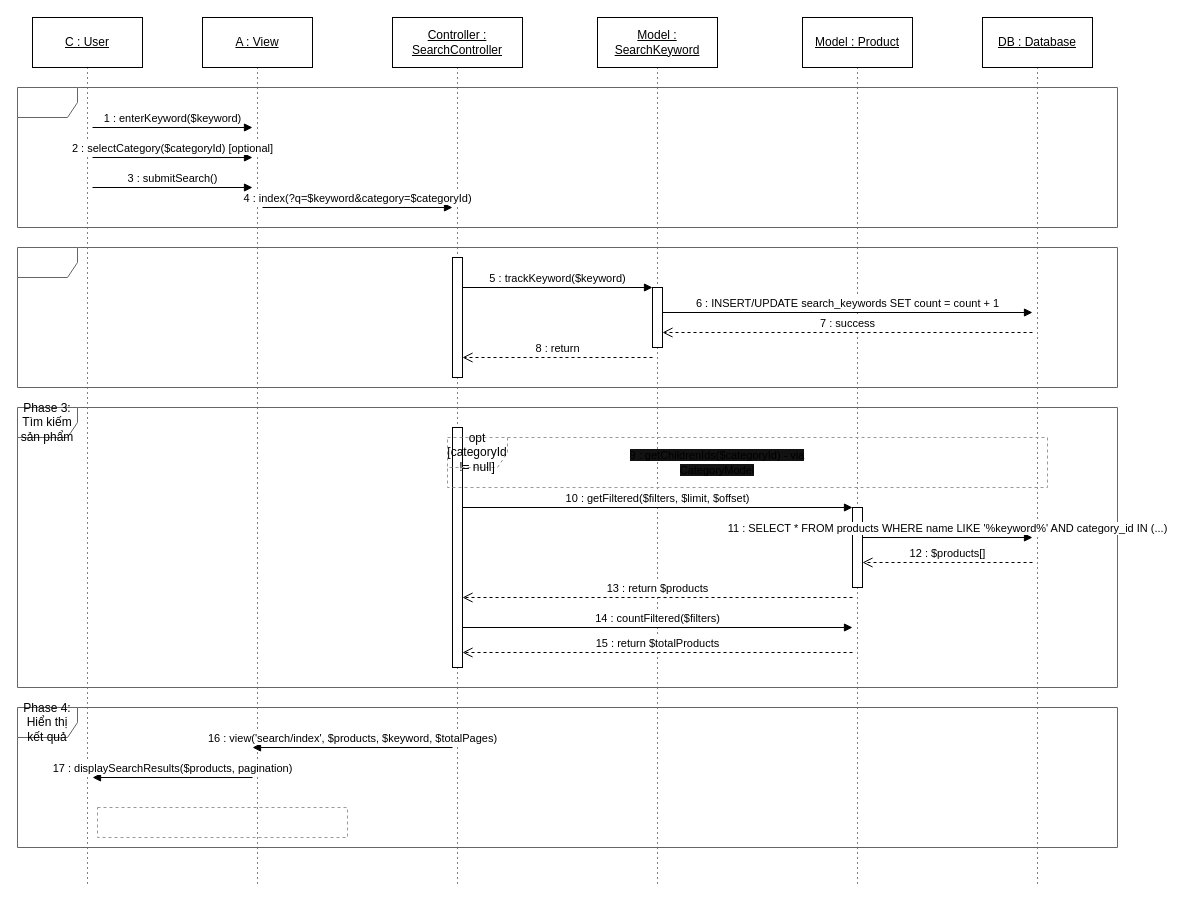
Some shapes in this 1185 by 906 pixel diagram are drawn without their labels. The shapes that lost their labels are listed below. From the top down, each one's centre as x and y in pixels, then its label:
(567,157): Phase 1: Nhập từ khóa tìm kiếm
(567,317): Phase 2: Theo dõi từ khóa (Analytics)
(222,822): [if empty] Hiển thị 'Không tìm thấy sản phẩm nào'
